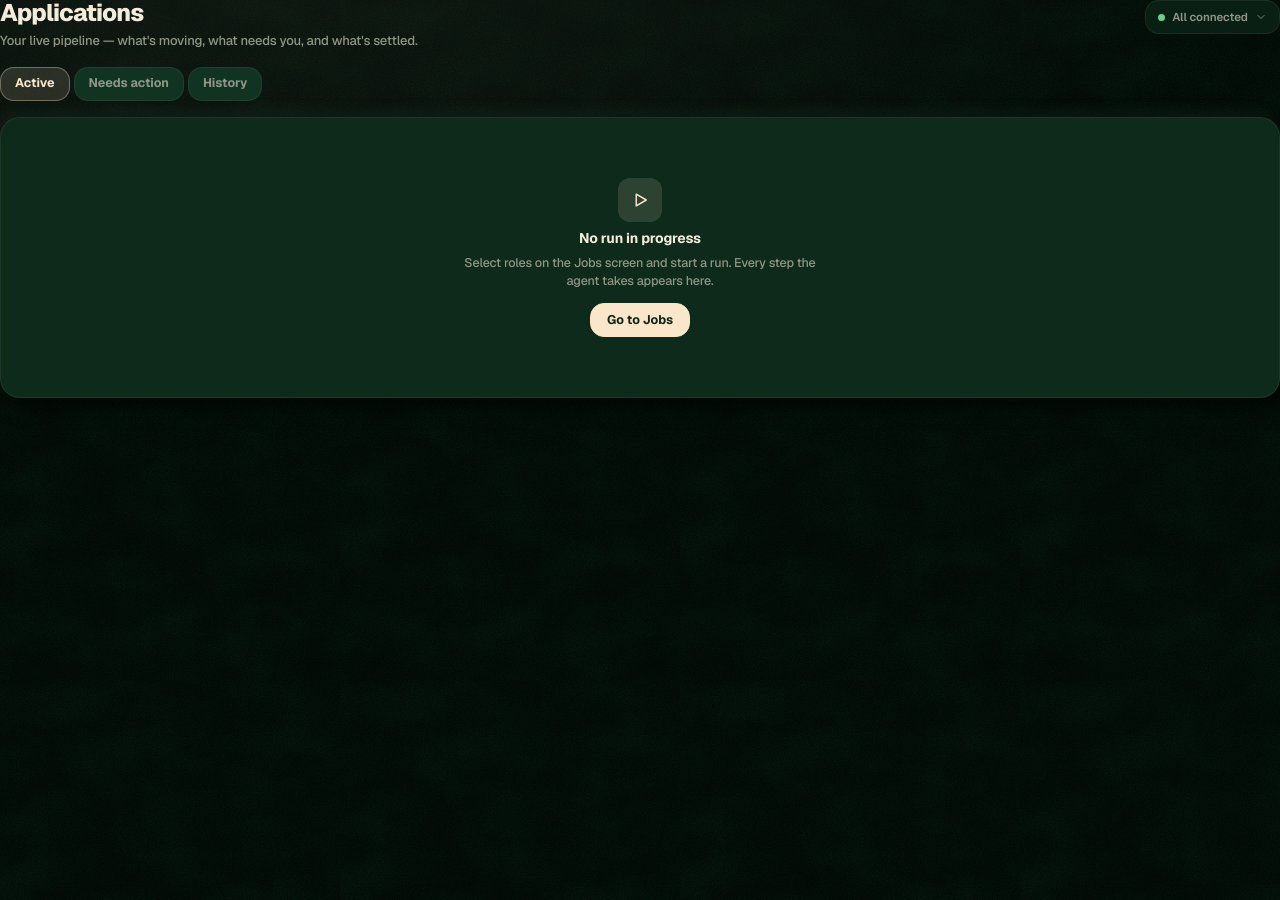
ApplicationsPage — merged Active / Needs action / History › marks an applied-but-unconfirmed application honestly, and a simulated one, but not a confirmed one
Click the tab "History". click: (225, 84)
box: 188,67 -> 262,101
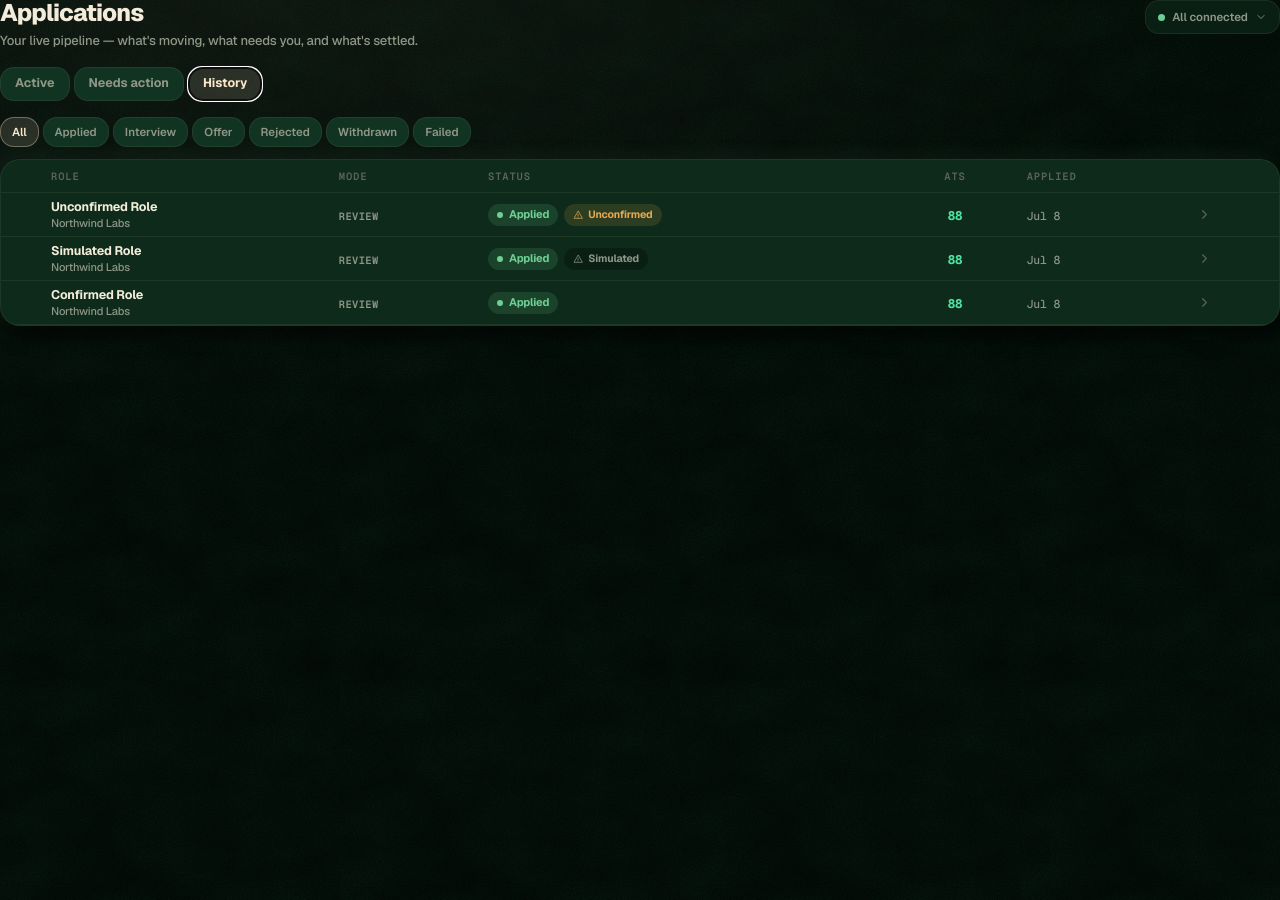
Expected: the text "Unconfirmed Role" is shown, 51,198 -> 157,215
Expected: the text "Unconfirmed" is shown, 564,204 -> 662,226
Expected: the text "Simulated" is shown, 564,248 -> 648,270
